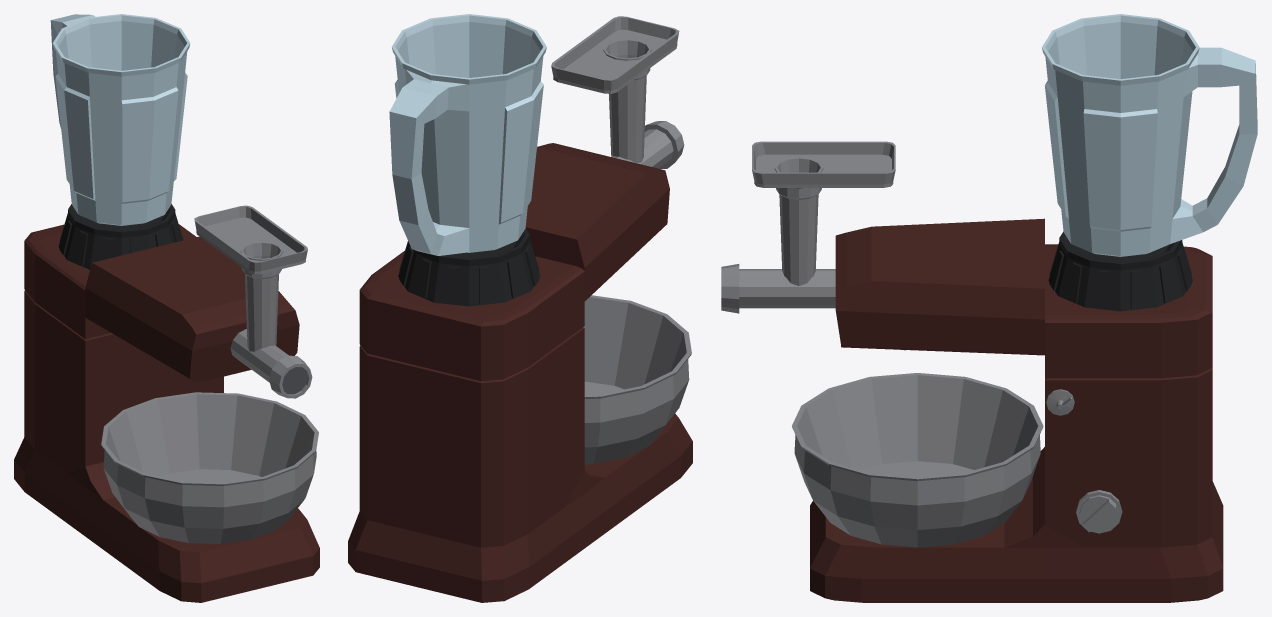
File: foodprocessor_01_C.gltf
3 views of the same model, side by side, from view 1: azimuth 30°, elevation 25°; view 2: azimuth 150°, elevation 25°; view 3: azimuth 270°, elevation 25° (orthographic). The views are drawn at different scales.
Parts seen in each view (by area): view 1: foodprocessor_01_C, Plateforfoodprocessor_01_C, blenderforfoodprocessor_01_C; view 2: foodprocessor_01_C, blenderforfoodprocessor_01_C, Plateforfoodprocessor_01_C; view 3: foodprocessor_01_C, blenderforfoodprocessor_01_C, Plateforfoodprocessor_01_C, Switchforfoodprocessor_02_C.
Boxes of the visible parts, x1,y1,x2,y2 form: foodprocessor_01_C: (14, 204, 319, 602); Plateforfoodprocessor_01_C: (101, 392, 318, 543); blenderforfoodprocessor_01_C: (50, 14, 190, 225); foodprocessor_01_C: (348, 16, 692, 602); blenderforfoodprocessor_01_C: (389, 14, 546, 255); Plateforfoodprocessor_01_C: (583, 295, 691, 464); foodprocessor_01_C: (721, 141, 1223, 602); blenderforfoodprocessor_01_C: (1042, 14, 1257, 256); Plateforfoodprocessor_01_C: (792, 373, 1043, 547); Switchforfoodprocessor_02_C: (1076, 490, 1122, 533).
Size of the model in its own units: 0.2179 by 0.4952 by 0.4639.
Materials: 1 (1 with a texture image).
